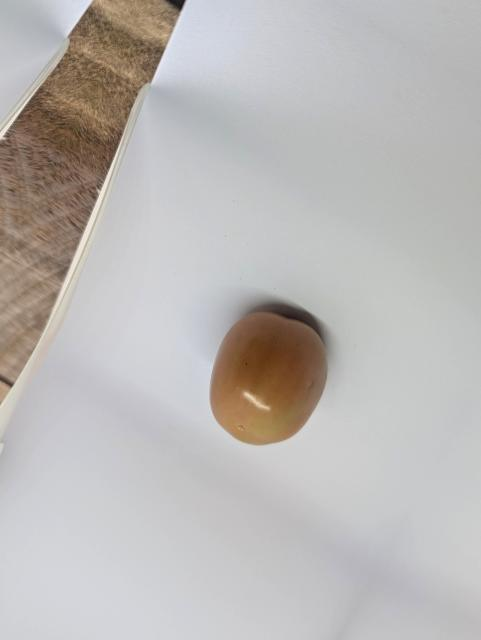turning: (200, 302, 349, 458)
